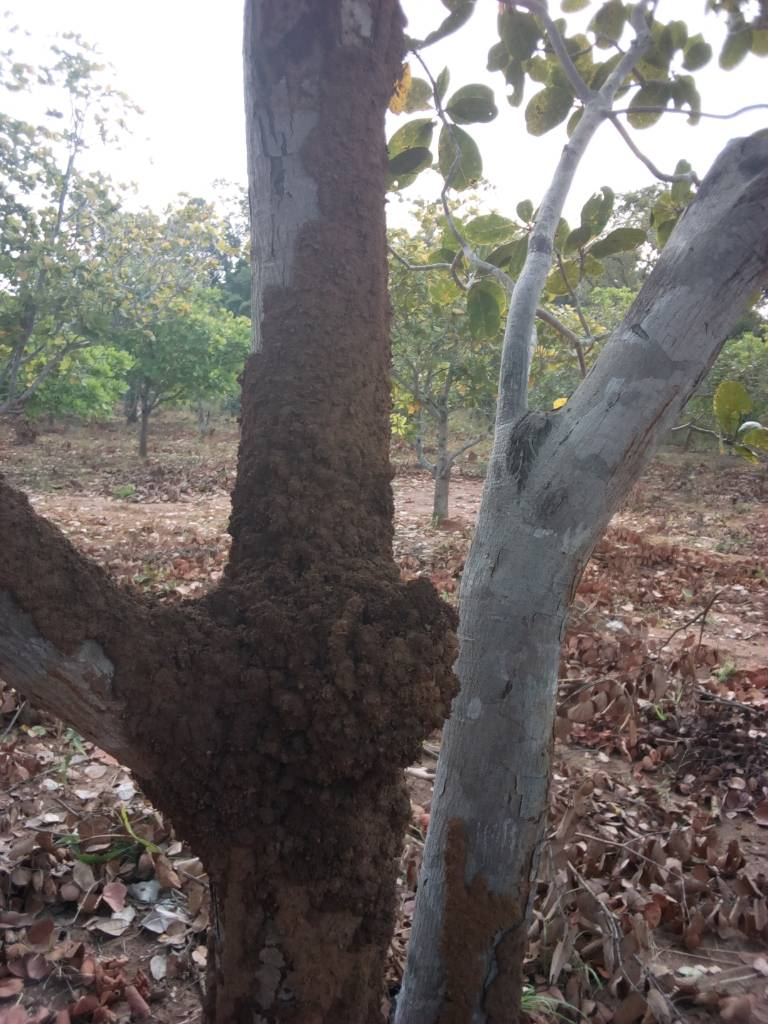Termites: (265, 222, 424, 835), (118, 589, 265, 814), (216, 855, 386, 1024), (446, 816, 535, 1021), (305, 11, 386, 219)
